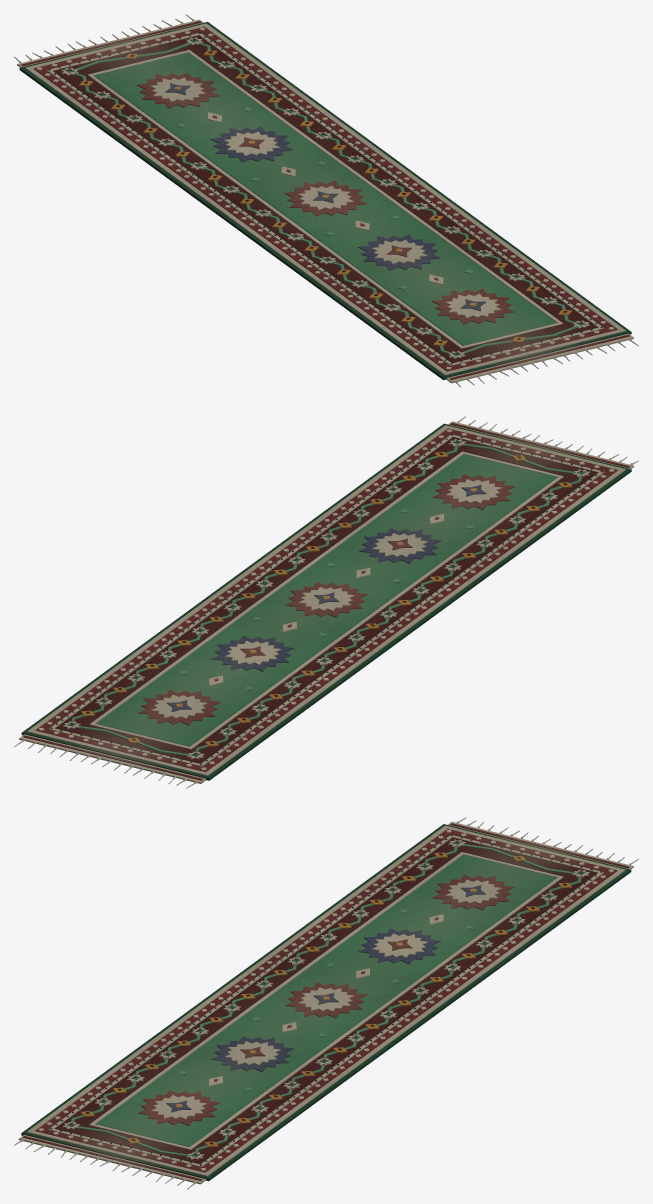
The model's file is runner_rug.glb.
3 views of the same model, one above another, from view 1: azimuth 30°, elevation 25°; view 2: azimuth 150°, elevation 25°; view 3: azimuth 330°, elevation 25° (orthographic).
Visible parts, largest first — view 1: runner_rug; view 2: runner_rug; view 3: runner_rug.
Part boxes in pixels (box(x1,y1,x2,y2)): runner_rug: box(14, 14, 638, 387); runner_rug: box(14, 416, 638, 788); runner_rug: box(14, 817, 638, 1189).
Size of the model in its own units: 0.7999 by 0.025 by 3.33.
